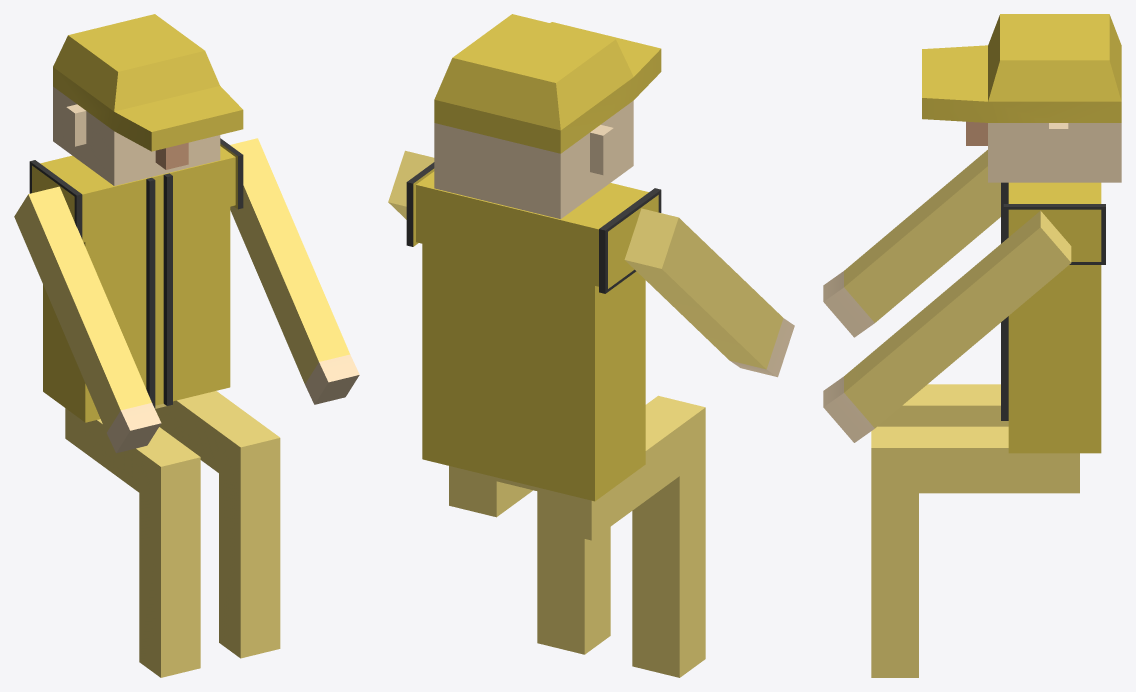
The model's file is masu_man_seat.fbx.
3 views of the same model, side by side, from view 1: azimuth 30°, elevation 25°; view 2: azimuth 150°, elevation 25°; view 3: azimuth 270°, elevation 25° (orthographic). The views are drawn at different scales.
Parts seen in each view (by area): view 1: masu_man_seat; view 2: masu_man_seat; view 3: masu_man_seat.
Part boxes in pixels (x1,y1,x2,y2): masu_man_seat: (14, 14, 359, 677); masu_man_seat: (388, 14, 794, 677); masu_man_seat: (823, 14, 1121, 677).
Size of the model in its own units: 0.8604 by 1.98 by 0.8793.
